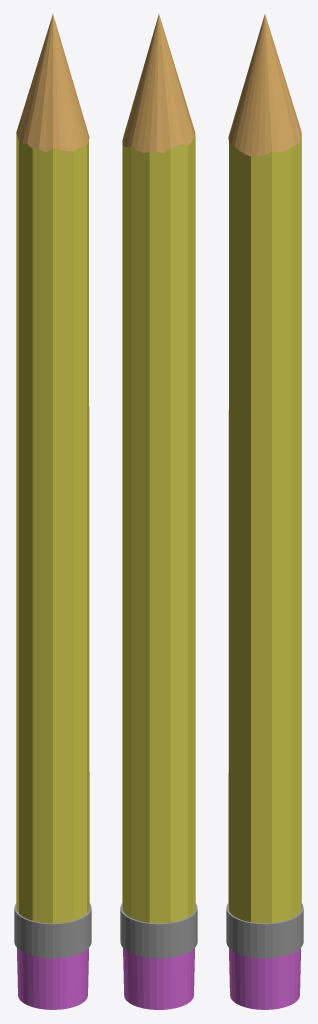
File: pencil unity.glb
3 views of the same model, side by side, from view 1: azimuth 90°, elevation 25°; view 2: azimuth 210°, elevation 25°; view 3: azimuth 270°, elevation 25° (orthographic).
Parts seen in each view (by area): view 1: Cylinder; view 2: Cylinder; view 3: Cylinder.
Boxes of the visible parts, box(x1,y1,x2,y2) form: Cylinder: box(14, 14, 91, 1009); Cylinder: box(120, 14, 197, 1009); Cylinder: box(226, 14, 303, 1009).
Bounding box in the file's own units: 0.1823 × 2.55 × 0.1823.
